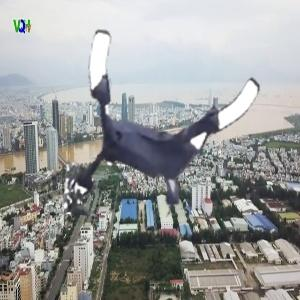drone: (70, 34, 260, 224)
